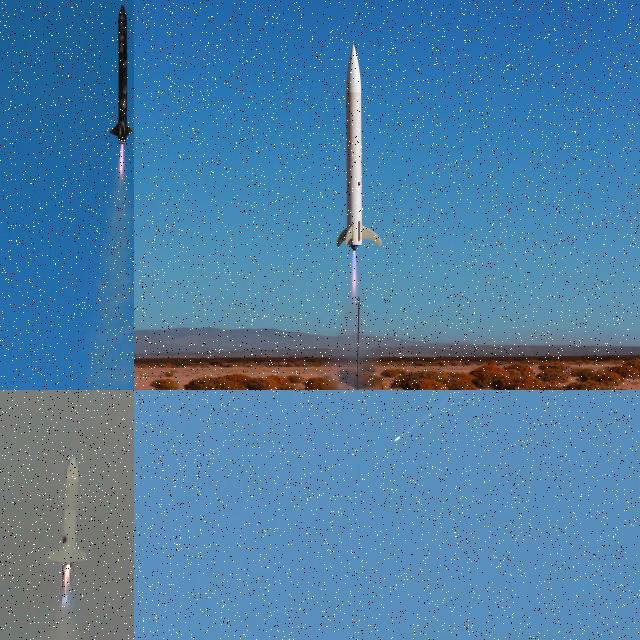Rocket: (336, 42, 383, 251), (46, 454, 90, 564), (108, 3, 134, 145), (394, 435, 401, 442)
